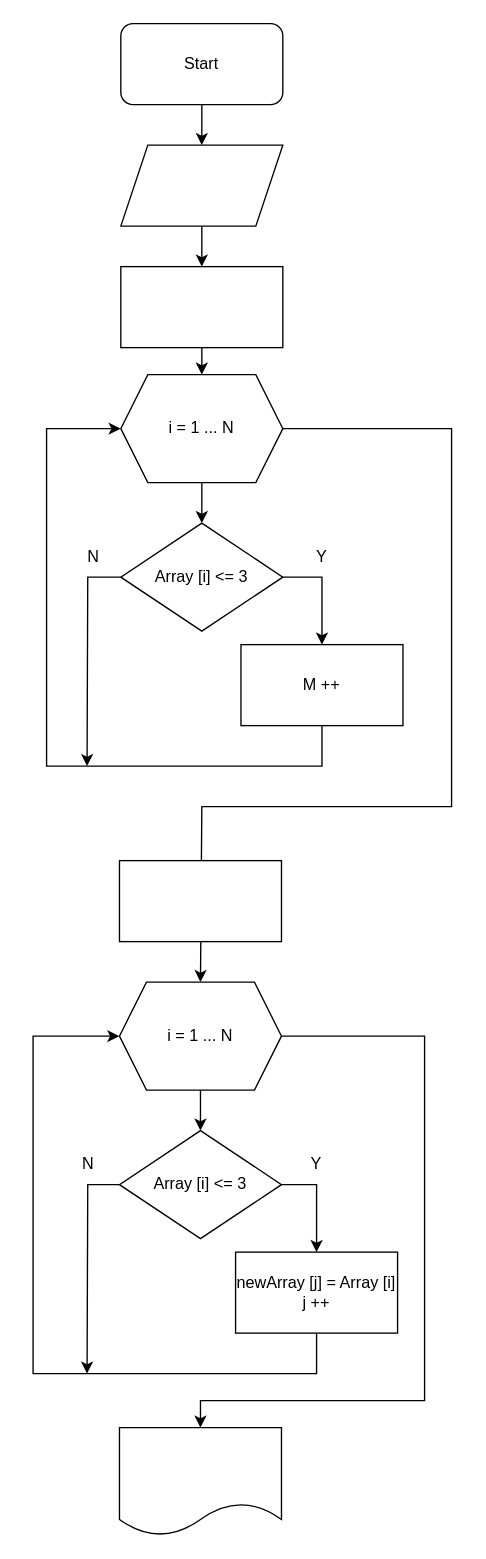
Image size: 486x1559. Some labels were removed from this diagram. The box of each missing label's shape, as (x1, y1, x2, y2) in pixels:
Array [0 ... N]: (119, 144, 283, 226)
M = 0: (119, 265, 283, 348)
newArray [0 ... M]: (118, 1426, 281, 1536)
newArray [0 ... M] j = 0: (118, 859, 281, 942)
